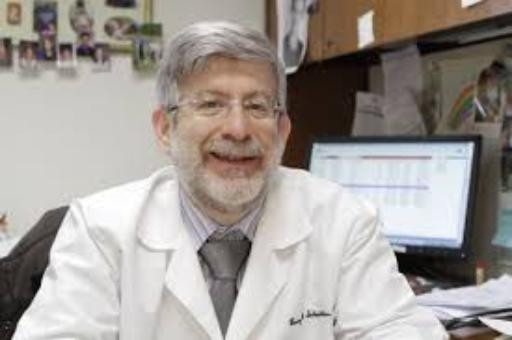left_eye: (245, 103, 268, 114)
left_lip_corner: (251, 154, 265, 166)
right_eye: (192, 100, 230, 114)
right_lip_corner: (205, 150, 220, 165)
